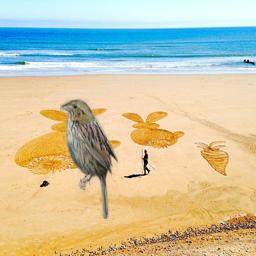Sparrow: (60, 98, 118, 219)
